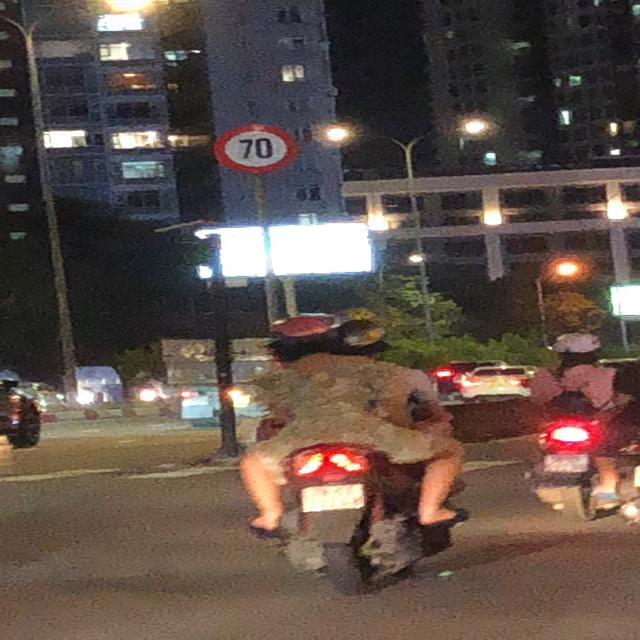Bien bao toc do toi da cho phep: (196, 120, 300, 173)
